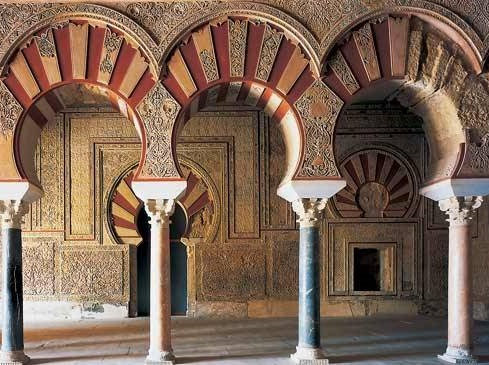arco-herradura: (311, 70, 469, 219), (161, 71, 310, 223), (8, 74, 160, 215), (123, 192, 199, 254)
